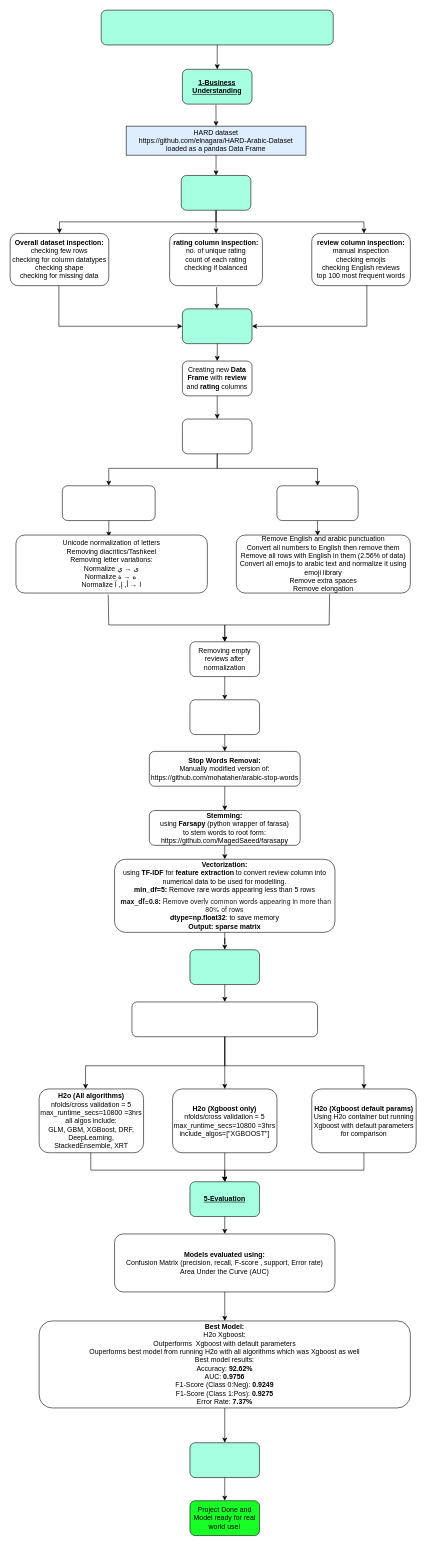
This 426x1546 diagram has some shape labels left out. Here are the shapes that lost their labels. From the top down, the centre of each, then its label:
At point 217,27: "AutoML for Arabic Sentiment Analysis : CRISP-DM Workflow".
At point 216,192: "2-Data Understanding".
At point 217,326: "3-Data Preparation".
At point 217,436: "Normalization".
At point 108,503: "CAMeL tools: https://github.com/CAMeL-Lab/camel_tools".
At point 317,503: "Manual normalization".
At point 224,717: "Tokenization: CAMeL tools".
At point 224,967: "4-Modelling".
At point 224,1019: "H2o AutoML : https://docs.h2o.ai/h2o/latest-stable/h2o-docs/automl.html".
At point 224,1460: "6-Deployment".
